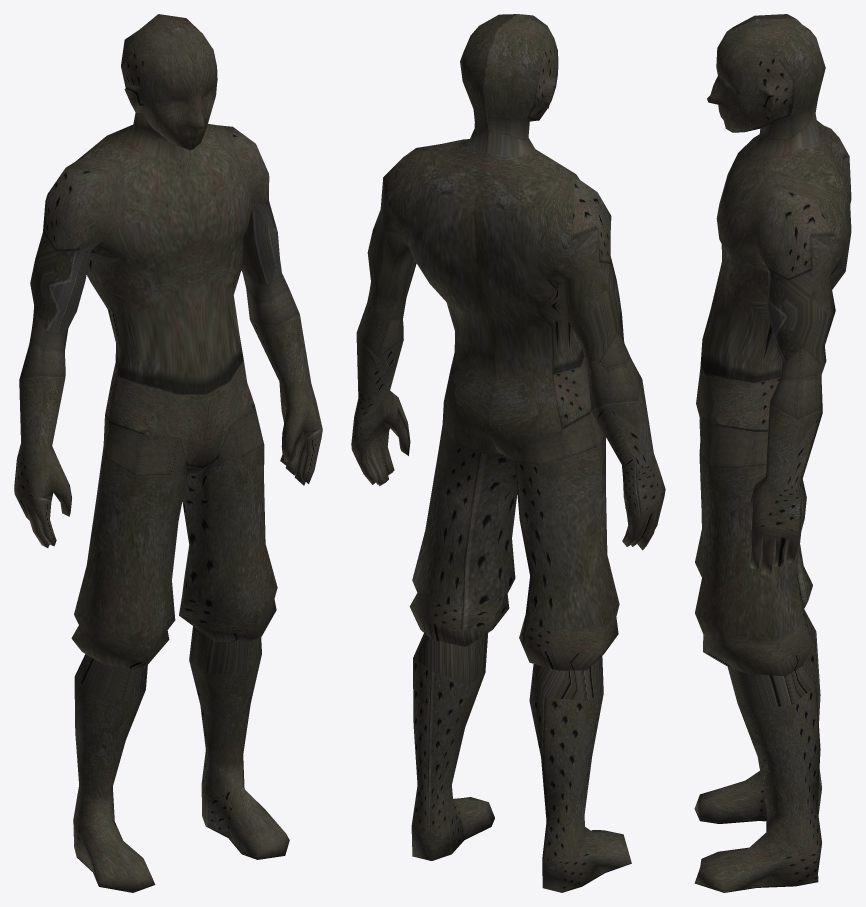
File: MaleLow.obj
The picture shows the model from 3 angles, left to right: view 1: azimuth 30°, elevation 25°; view 2: azimuth 150°, elevation 25°; view 3: azimuth 270°, elevation 25°; orthographic projection.
Parts seen in each view (by area): view 1: polySurface13 polySurface14 Mesh, polySurface11 polySurface12 Mesh; view 2: polySurface13 polySurface14 Mesh, polySurface11 polySurface12 Mesh; view 3: polySurface13 polySurface14 Mesh, polySurface11 polySurface12 Mesh.
Boxes of the visible parts, bbox=[...] form: polySurface13 polySurface14 Mesh: bbox=[14, 14, 322, 669]; polySurface11 polySurface12 Mesh: bbox=[73, 626, 289, 892]; polySurface13 polySurface14 Mesh: bbox=[351, 14, 665, 670]; polySurface11 polySurface12 Mesh: bbox=[411, 633, 631, 892]; polySurface13 polySurface14 Mesh: bbox=[695, 14, 851, 675]; polySurface11 polySurface12 Mesh: bbox=[694, 609, 821, 892].
Bounding box in the file's own units: 8.01 × 21.67 × 3.73.
